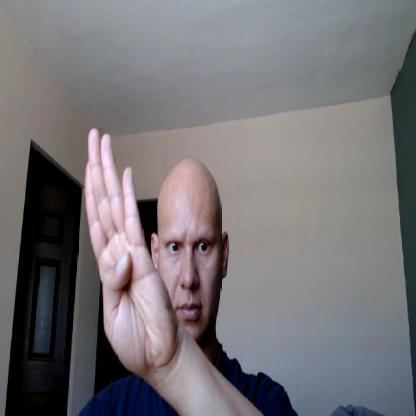B: (85, 129, 175, 375)
